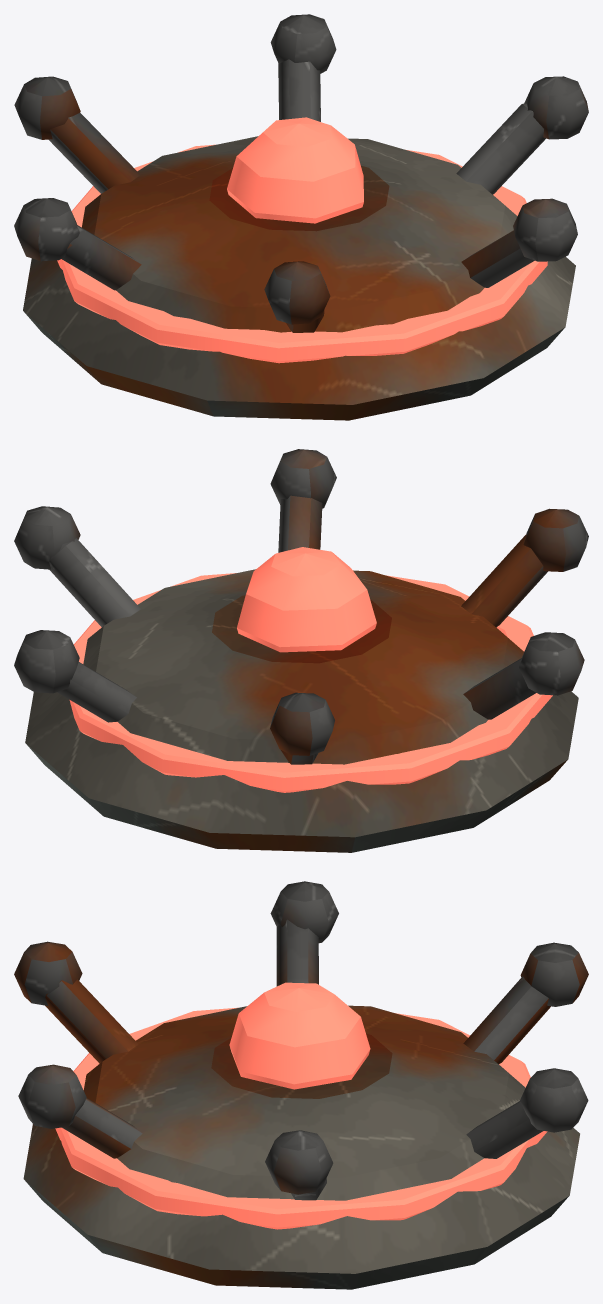
File: R4D_ExplosiveTrap.glb
3 renders of one model, top to bottom at view 1: azimuth 30°, elevation 25°; view 2: azimuth 150°, elevation 25°; view 3: azimuth 270°, elevation 25°, orthographic.
Visible parts, largest first — view 1: R4D_ExplosiveTrap_Body, R4D_ExplosiveTrap_Lamp; view 2: R4D_ExplosiveTrap_Body, R4D_ExplosiveTrap_Lamp; view 3: R4D_ExplosiveTrap_Body, R4D_ExplosiveTrap_Lamp.
Boxes of the visible parts, x1,y1,x2,y2 form: R4D_ExplosiveTrap_Body: [14, 14, 588, 420]; R4D_ExplosiveTrap_Lamp: [227, 117, 363, 223]; R4D_ExplosiveTrap_Body: [14, 449, 588, 852]; R4D_ExplosiveTrap_Lamp: [237, 547, 376, 652]; R4D_ExplosiveTrap_Body: [14, 881, 588, 1289]; R4D_ExplosiveTrap_Lamp: [229, 982, 370, 1089].
Size of the model in its own units: 0.4987 by 0.16 by 0.4361.
Materials: 5 (4 with a texture image).
